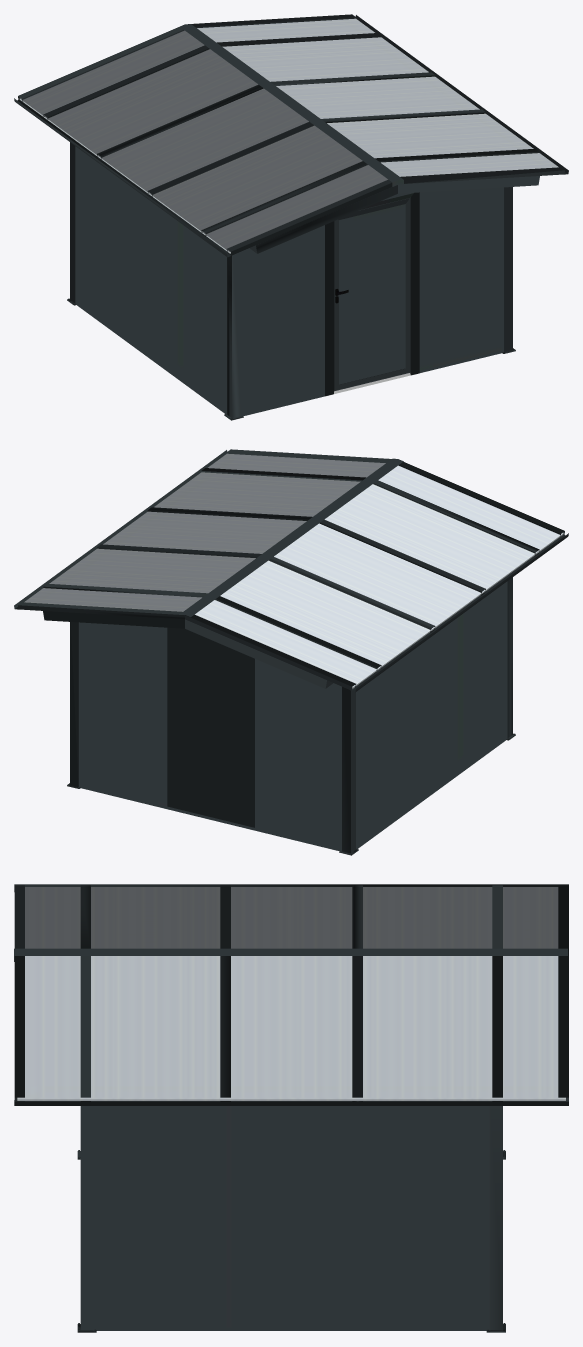
3 renders of one model, top to bottom at view 1: azimuth 30°, elevation 25°; view 2: azimuth 150°, elevation 25°; view 3: azimuth 270°, elevation 25°, orthographic. The views are drawn at different scales.
Parts seen in each view (by area): view 1: priximbattable_net_abris_de_jardin_640003_abri_de_jardin_lys, folha, porta; view 2: priximbattable_net_abris_de_jardin_640003_abri_de_jardin_lys; view 3: priximbattable_net_abris_de_jardin_640003_abri_de_jardin_lys.
Boxes of the visible parts, box(x1,y1,x2,y2) form: priximbattable_net_abris_de_jardin_640003_abri_de_jardin_lys: box(14, 14, 568, 420); folha: box(334, 198, 410, 391); porta: box(325, 192, 419, 396); priximbattable_net_abris_de_jardin_640003_abri_de_jardin_lys: box(14, 449, 568, 855); priximbattable_net_abris_de_jardin_640003_abri_de_jardin_lys: box(14, 884, 568, 1332).
Size of the model in its own units: 389 by 243 by 420.
1 material, 1 textured.
